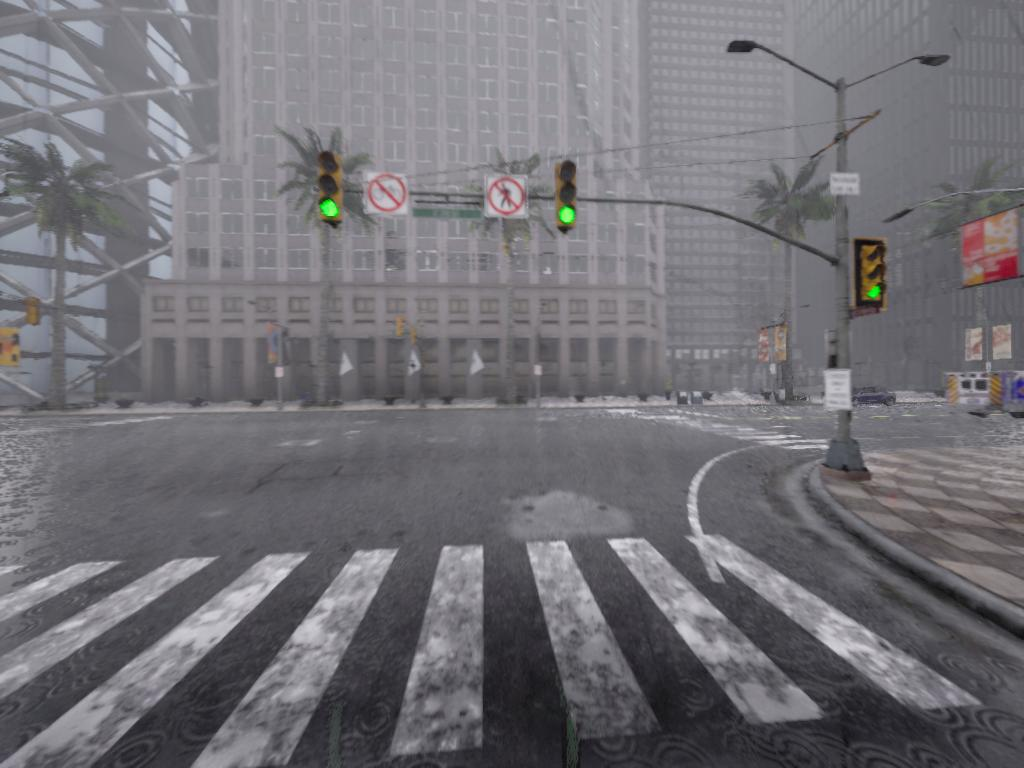traffic_light: (858, 242, 889, 309), (317, 151, 344, 226), (555, 162, 578, 231), (27, 303, 42, 328), (395, 317, 406, 345), (410, 327, 419, 349)
